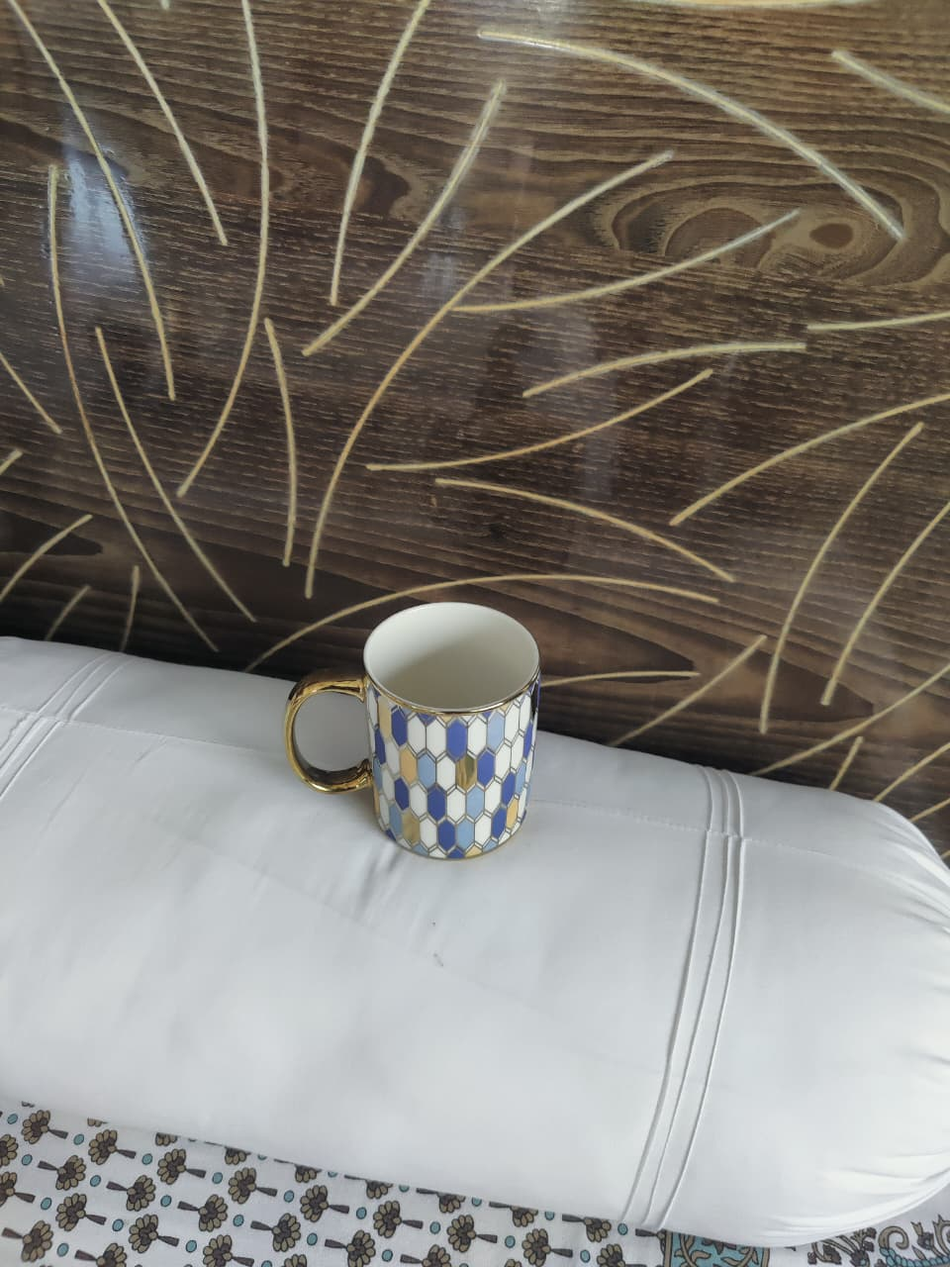cup: (284, 602, 540, 862)
